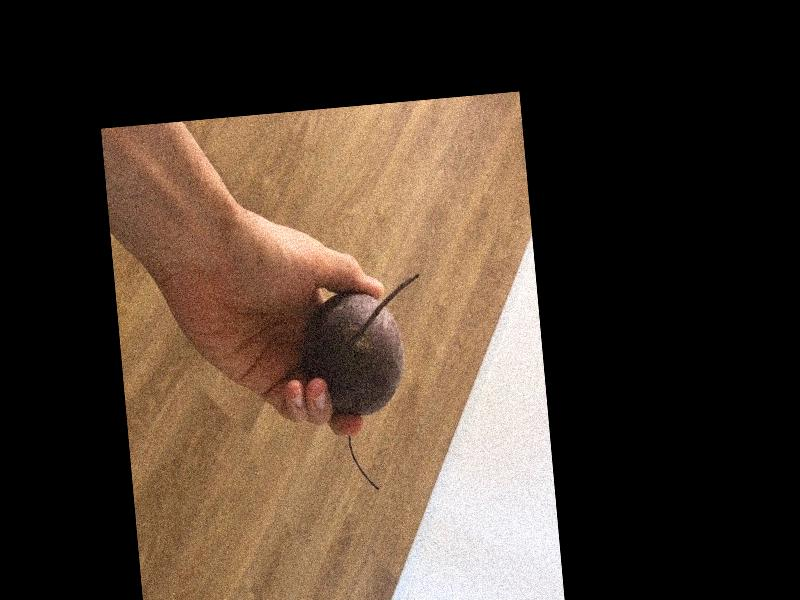Beet: (299, 274, 437, 496)
